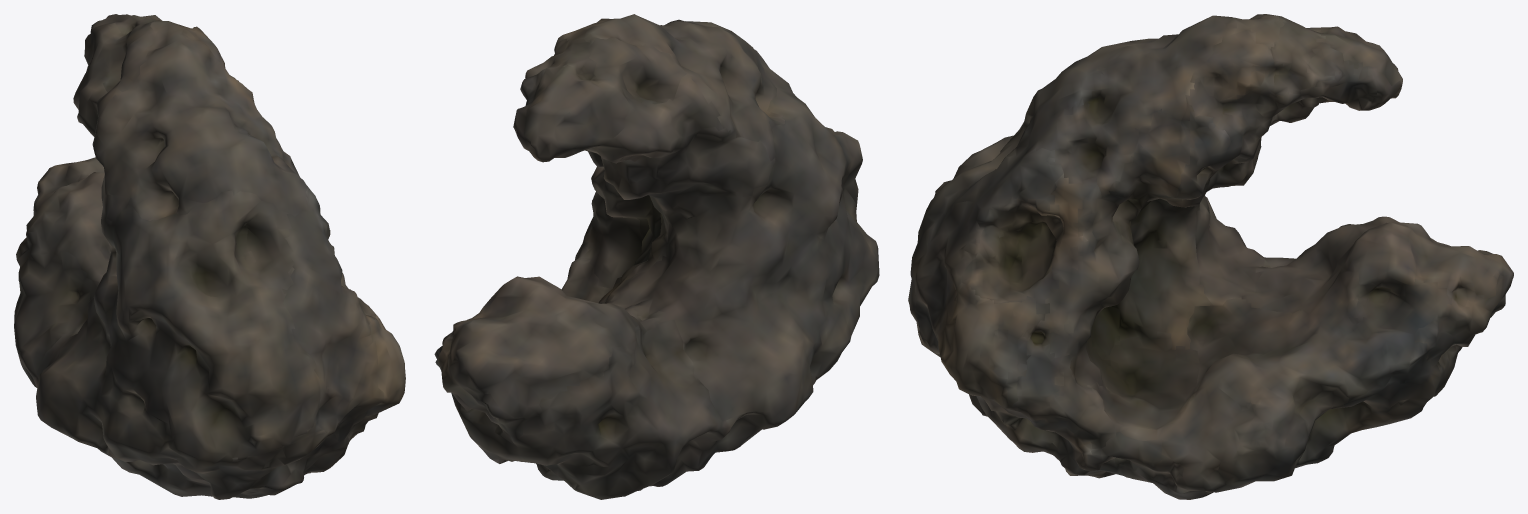
Rendered from asteroid_rare_4_lod2.glb.
3 views of the same model, side by side, from view 1: azimuth 30°, elevation 25°; view 2: azimuth 150°, elevation 25°; view 3: azimuth 270°, elevation 25° (orthographic). The views are drawn at different scales.
Parts seen in each view (by area): view 1: model; view 2: model; view 3: model.
Part boxes in pixels (bbox=[...]): model: bbox=[14, 14, 405, 499]; model: bbox=[434, 14, 879, 499]; model: bbox=[908, 14, 1513, 499].
Bounding box in the file's own units: 1.09 × 1.56 × 1.89.
Materials: 1 (1 with a texture image).
